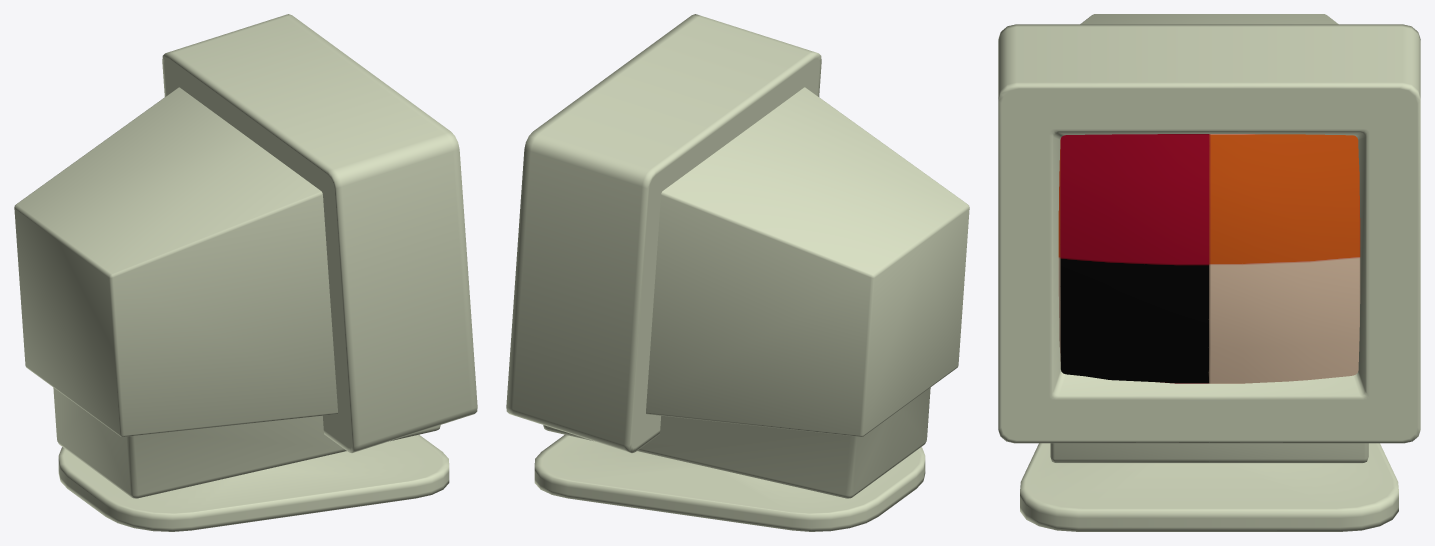
The model's file is monitor.glb.
3 renders of one model, left to right at view 1: azimuth 30°, elevation 25°; view 2: azimuth 150°, elevation 25°; view 3: azimuth 270°, elevation 25°, orthographic. The views are drawn at different scales.
Visible parts, largest first — view 1: Cube; view 2: Cube; view 3: Cube.
Part boxes in pixels (x1=…): Cube: x1=14, y1=14, x2=477, y2=531; Cube: x1=506, y1=14, x2=969, y2=531; Cube: x1=998, y1=14, x2=1420, y2=531.
Bounding box in the file's own units: 2.18 × 2.28 × 2.
2 materials, 1 textured.
